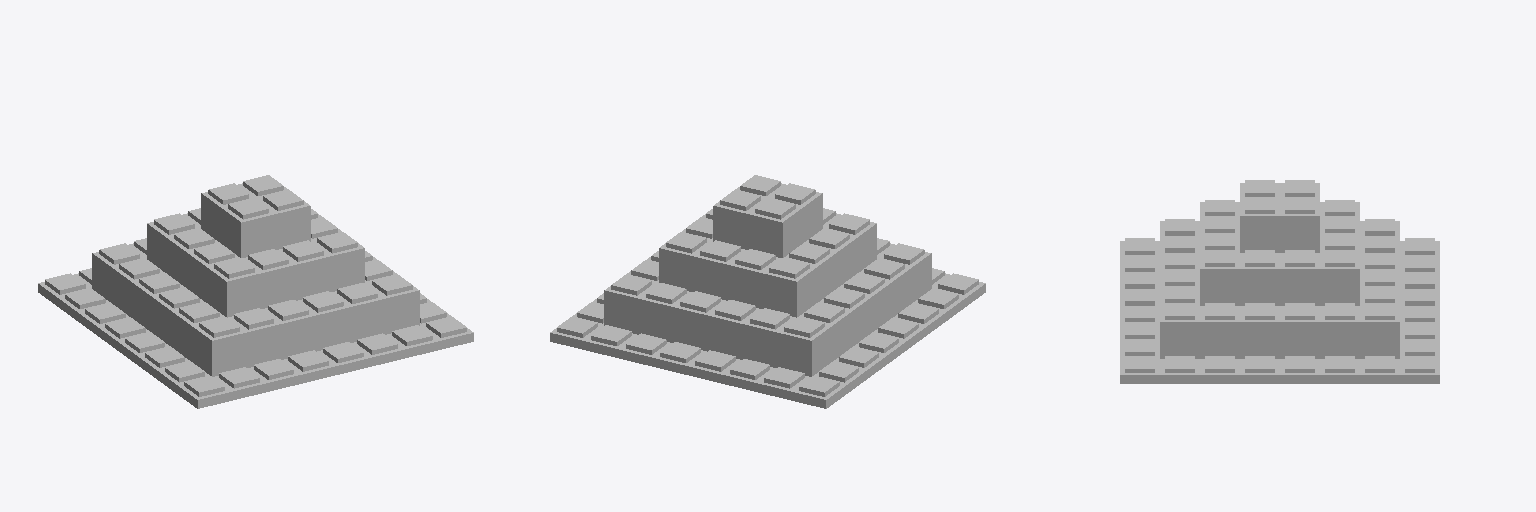
The model's file is Surmount Board.obj.
3 views of the same model, side by side, from view 1: azimuth 30°, elevation 25°; view 2: azimuth 150°, elevation 25°; view 3: azimuth 270°, elevation 25° (orthographic).
Parts seen in each view (by area): view 1: Solid1; view 2: Solid1; view 3: Solid1.
Part boxes in pixels (x1,y1,x2,y2): Solid1: (38, 175, 473, 408); Solid1: (550, 175, 985, 408); Solid1: (1120, 180, 1439, 383).
Size of the model in its own units: 8 by 3.38 by 8.